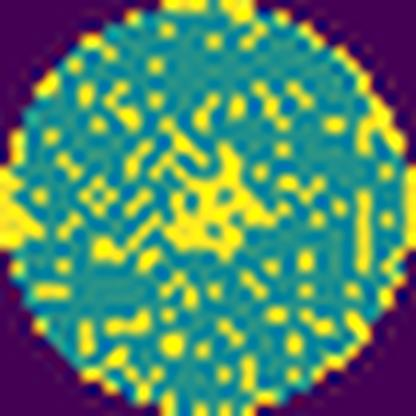Center: (162, 140, 280, 253)
